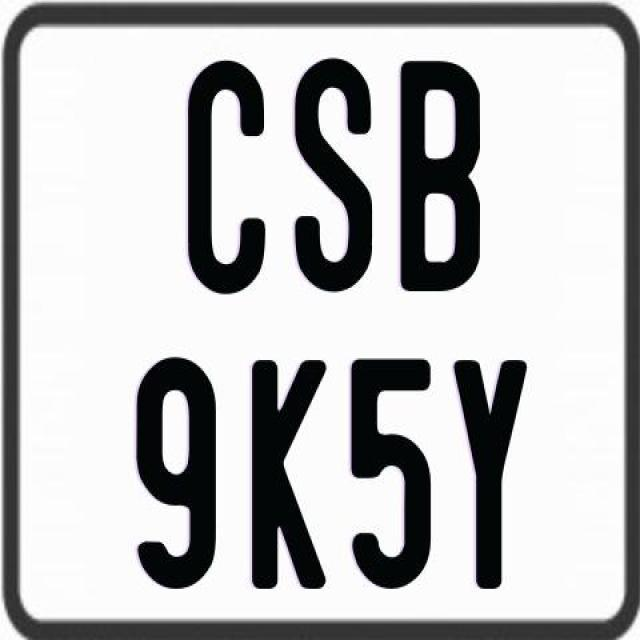5: (348, 356, 431, 590)
9: (132, 356, 216, 588)
B: (401, 60, 484, 298)
C: (188, 56, 269, 290)
K: (248, 358, 326, 588)
S: (292, 56, 375, 291)
Y: (450, 360, 530, 589)
